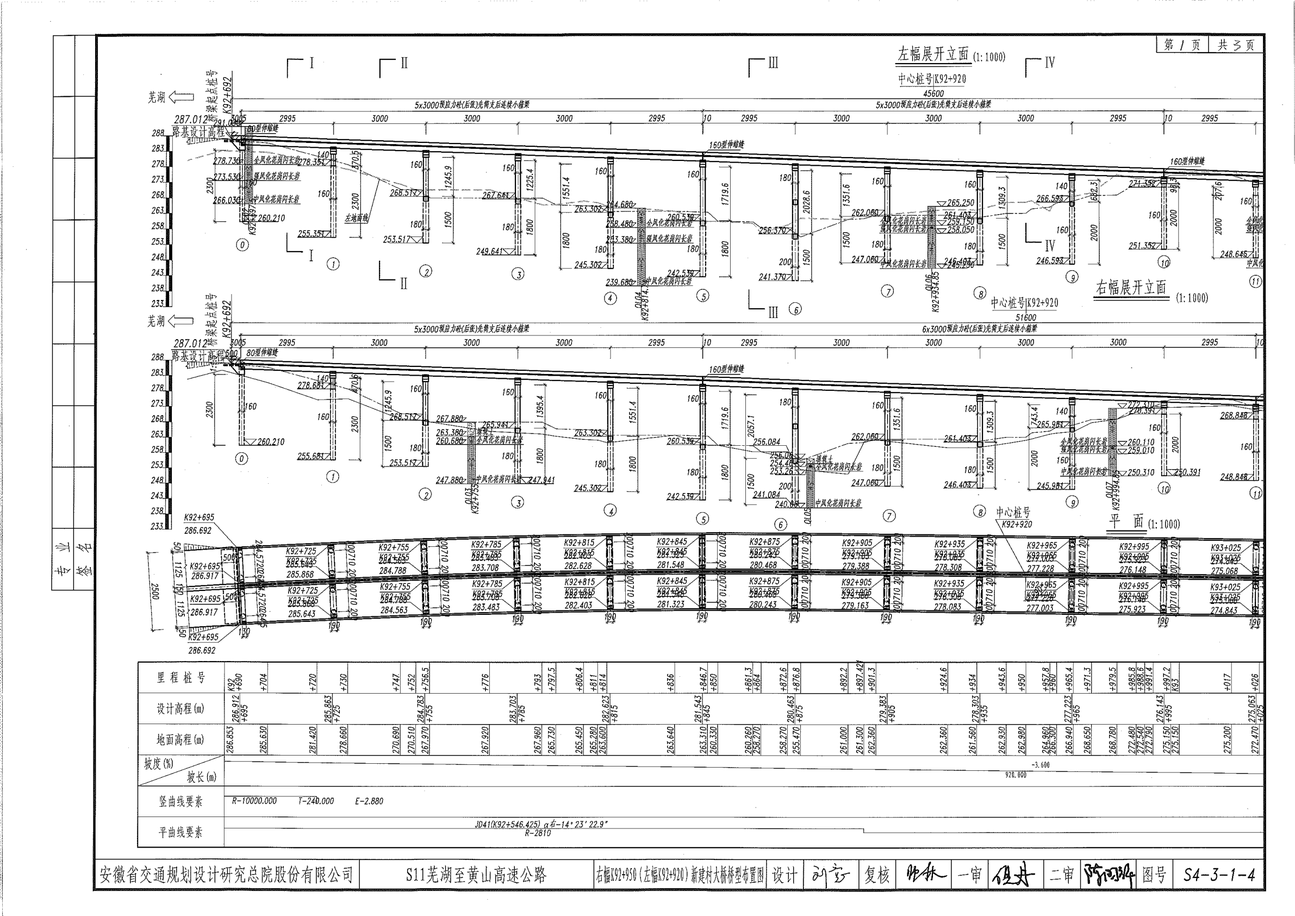A: (132, 41, 1286, 319)
